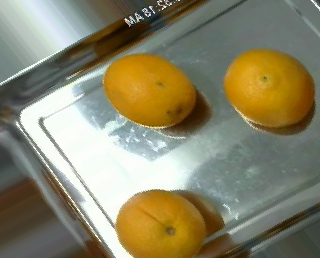Orange: (222, 47, 315, 126), (102, 53, 195, 129), (114, 188, 207, 258)
